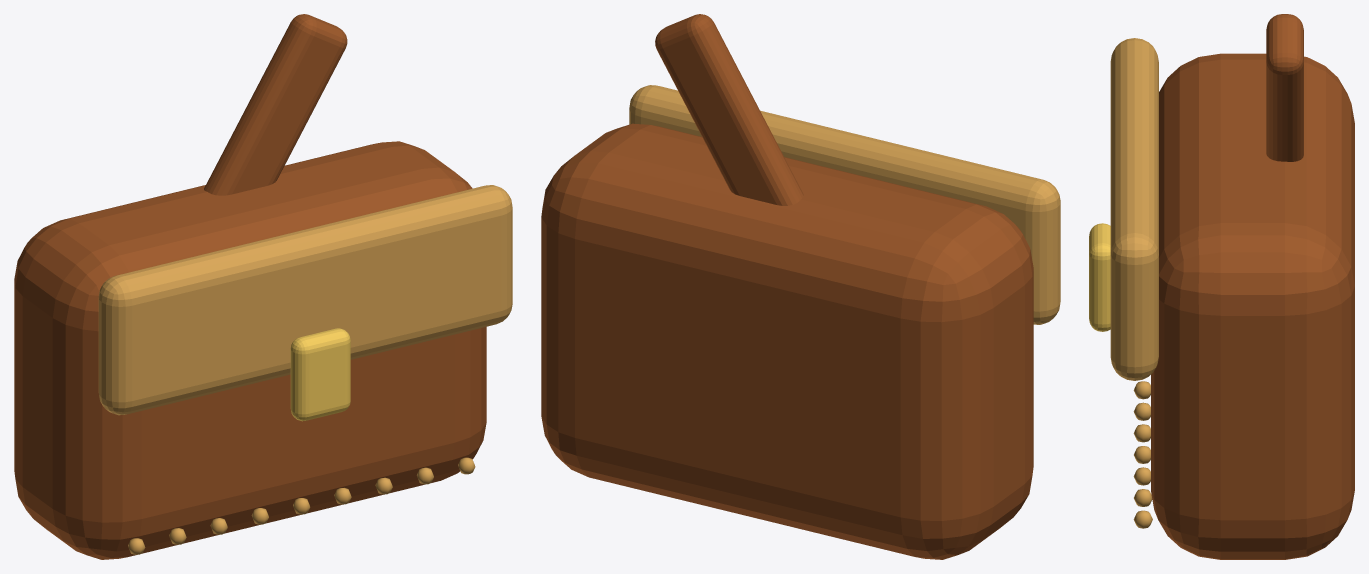
Rendered from courier-bag.glb.
The picture shows the model from 3 angles, left to right: view 1: azimuth 30°, elevation 25°; view 2: azimuth 150°, elevation 25°; view 3: azimuth 270°, elevation 25°; orthographic projection. The views are drawn at different scales.
Visible parts, largest first — view 1: satchel, satchel_flap, satchel_strap, satchel_clasp; view 2: satchel, satchel_flap, satchel_strap; view 3: satchel, satchel_flap, satchel_strap, satchel_clasp.
Boxes of the visible parts, box(x1,y1,x2,y2) form: satchel: box(14, 141, 486, 559); satchel_flap: box(98, 185, 512, 415); satchel_strap: box(204, 14, 347, 195); satchel_clasp: box(290, 328, 350, 421); satchel: box(541, 123, 1033, 559); satchel_flap: box(629, 85, 1060, 324); satchel_strap: box(655, 14, 803, 205); satchel: box(1151, 53, 1354, 559); satchel_flap: box(1110, 38, 1158, 380); satchel_strap: box(1266, 14, 1303, 161); satchel_clasp: box(1089, 223, 1110, 331).
Size of the model in its own units: 0.49 by 0.5069 by 0.2475.
